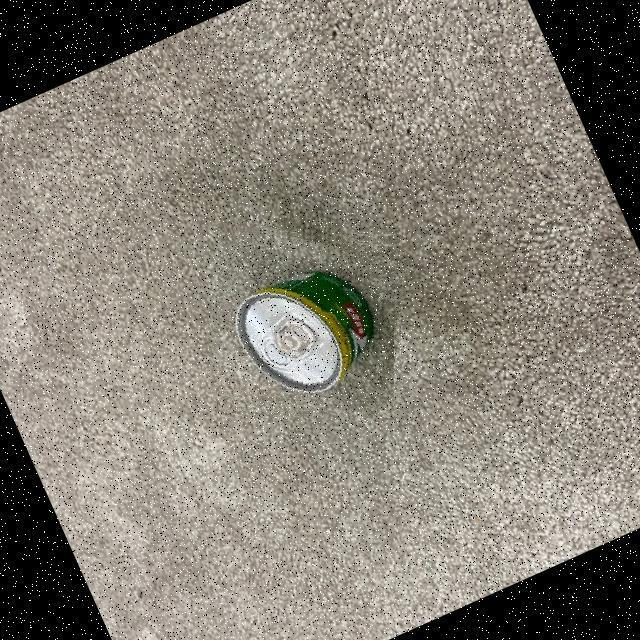recyclable: (211, 228, 402, 418)
